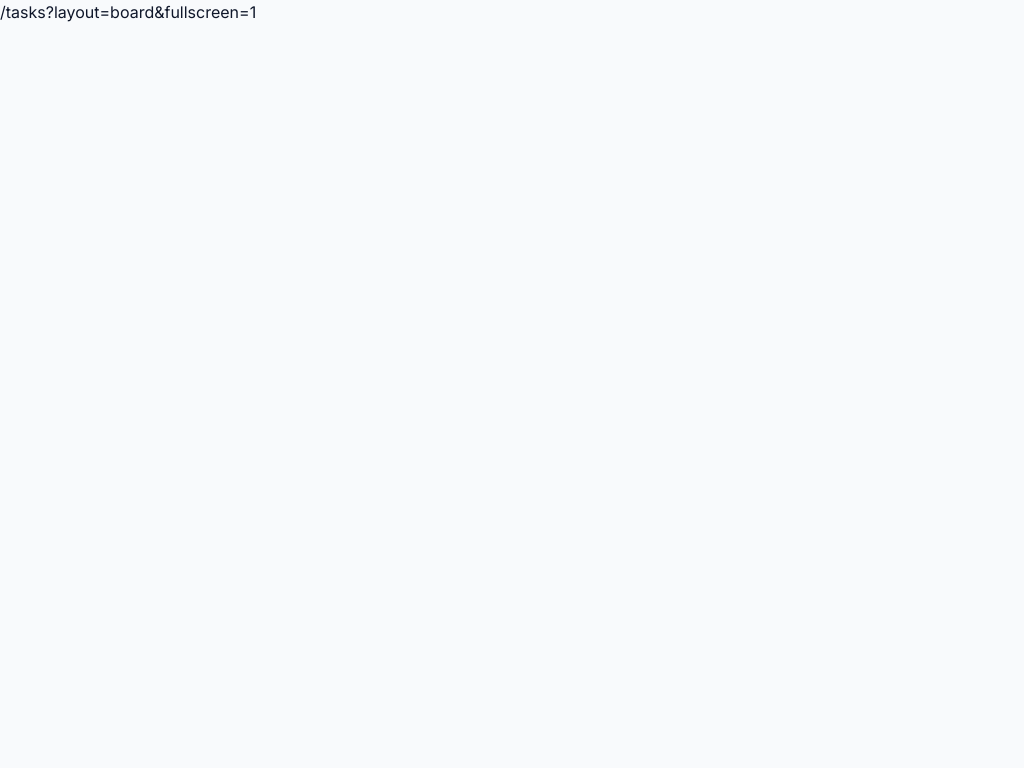
Scenario: CommandMenu › reverses task layout and fullscreen commands from the current state
The image size is (1024, 768).
Type keys "{Control>}k{/Control}"
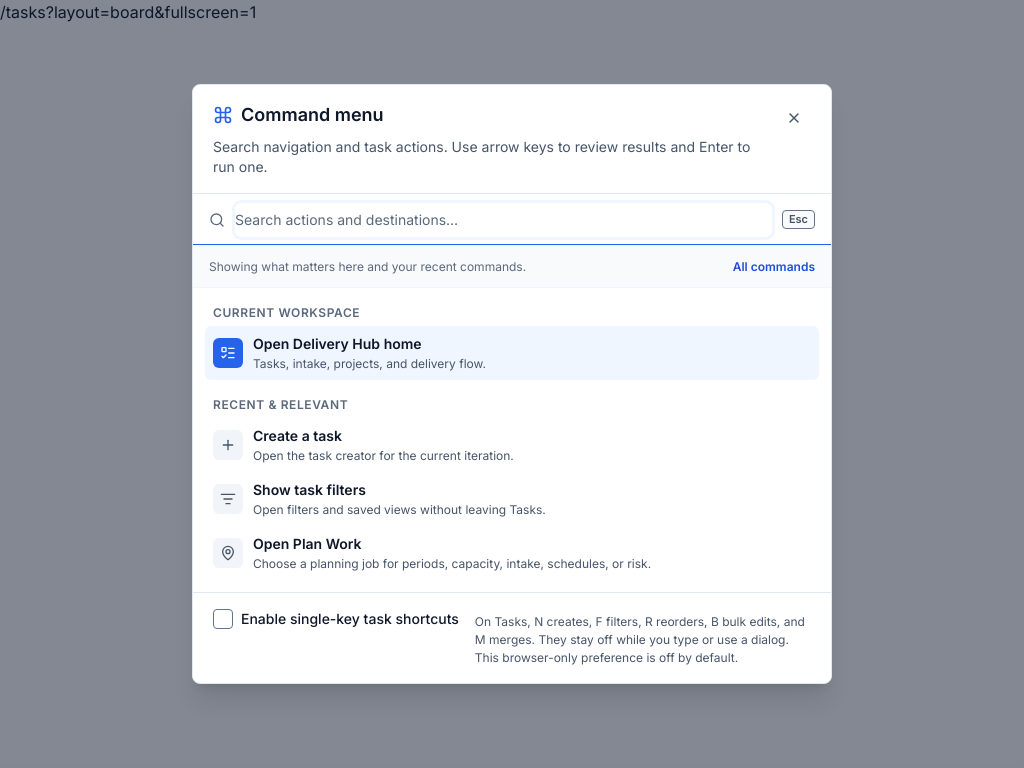
Click the button "All commands". click: {"x": 774, "y": 266}
box: [733,258,815,276]
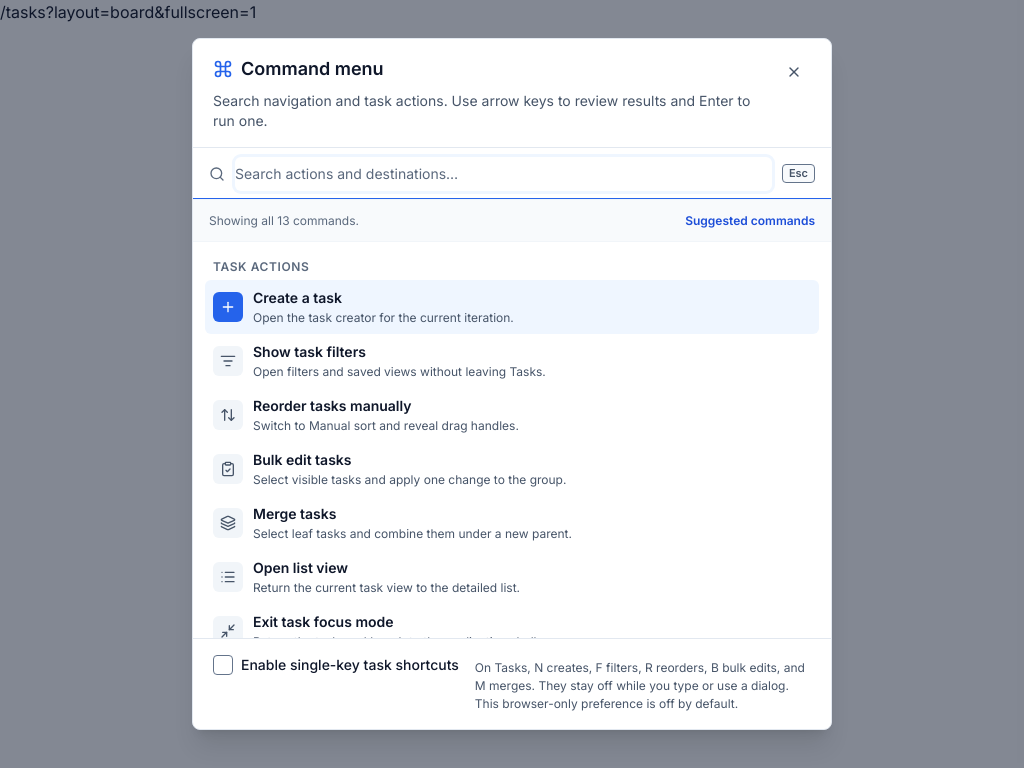
Now the option "Open list view" is shown, box [205,550,819,604]
Click the option "Exit task focus mode". click: {"x": 323, "y": 622}
box: [205,604,819,658]
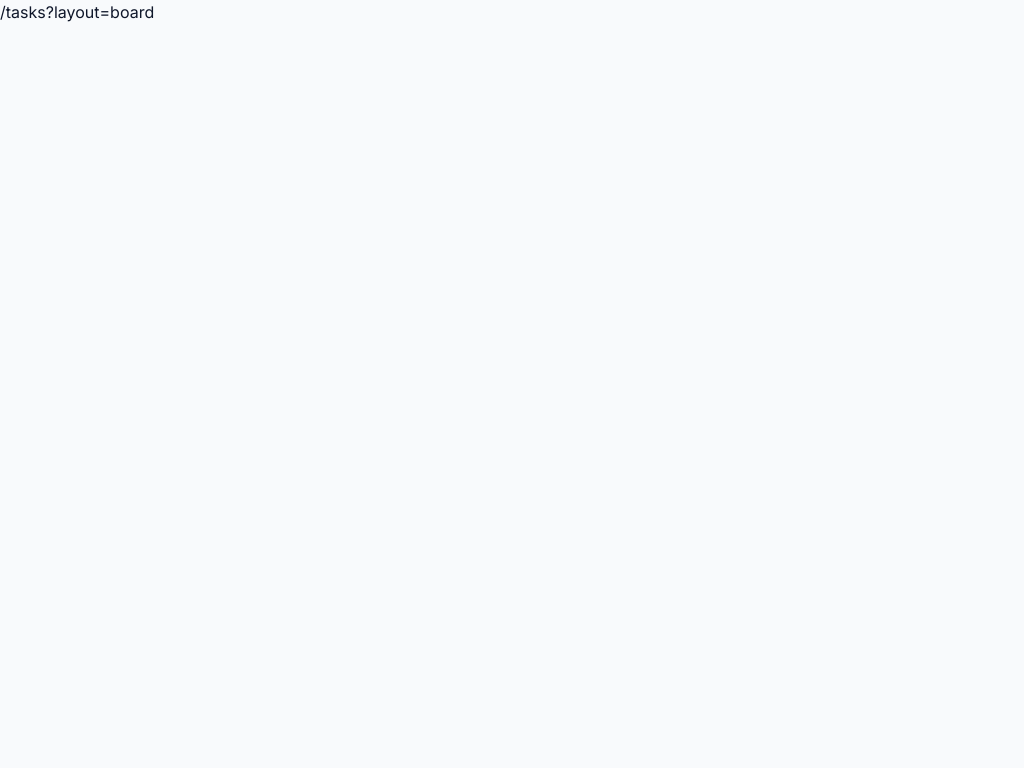
Now the text with test id "command-location" reads "/tasks?layout=board", box [0,2,154,22]
